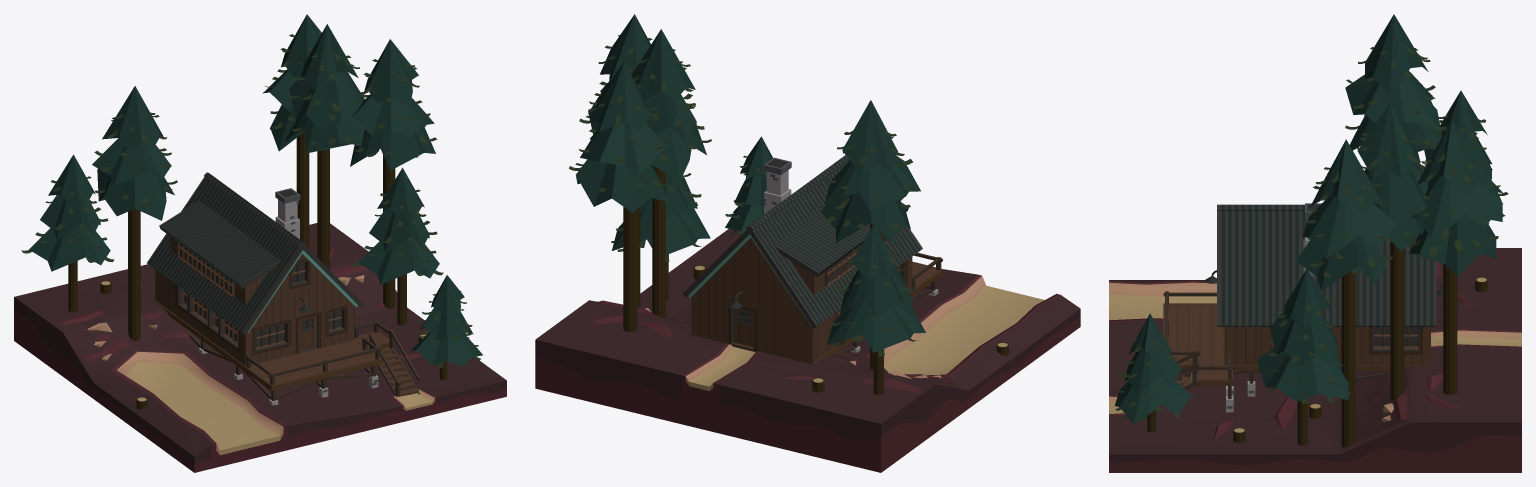
Rendered from Cabin And Environment .obj.
The picture shows the model from 3 angles, left to right: view 1: azimuth 30°, elevation 25°; view 2: azimuth 150°, elevation 25°; view 3: azimuth 270°, elevation 25°; orthographic projection. The views are drawn at different scales.
Parts seen in each view (by area): view 1: Ground, Cabin, Spruce5, Spruce, Spruce3, Spruce2, Spruce6, Spruce4, Spruce1, Door_1; view 2: Ground, Cabin, Spruce4, Spruce5, Spruce, Spruce6, Spruce2, Spruce3, Spruce1, Door_2; view 3: Ground, Cabin, Spruce3, Spruce4, Spruce, Spruce2, Spruce5, Spruce1, Spruce6, Stump4.
Boxes of the visible parts, bbox=[...] form: Ground: bbox=[14, 223, 506, 472]; Cabin: bbox=[147, 172, 421, 405]; Spruce5: bbox=[92, 86, 177, 340]; Spruce: bbox=[284, 24, 368, 269]; Spruce3: bbox=[349, 39, 437, 308]; Spruce2: bbox=[350, 168, 443, 325]; Spruce6: bbox=[21, 154, 114, 312]; Spruce4: bbox=[263, 14, 321, 248]; Spruce1: bbox=[411, 275, 482, 380]; Door_1: bbox=[299, 316, 317, 351]; Ground: bbox=[535, 228, 1080, 472]; Cabin: bbox=[683, 155, 943, 364]; Spruce4: bbox=[569, 61, 669, 331]; Spruce5: bbox=[818, 100, 920, 369]; Spruce: bbox=[631, 29, 711, 318]; Spruce6: bbox=[826, 223, 925, 394]; Spruce2: bbox=[611, 173, 710, 300]; Spruce3: bbox=[579, 14, 652, 307]; Spruce1: bbox=[725, 136, 772, 235]; Door_2: bbox=[733, 308, 753, 346]; Ground: bbox=[1109, 248, 1521, 472]; Cabin: bbox=[1163, 203, 1443, 412]; Spruce3: bbox=[1294, 139, 1397, 447]; Spruce4: bbox=[1407, 119, 1502, 394]; Spruce: bbox=[1357, 102, 1430, 400]; Spruce2: bbox=[1257, 269, 1350, 445]; Spruce5: bbox=[1345, 14, 1448, 151]; Spruce1: bbox=[1115, 313, 1199, 432]; Spruce6: bbox=[1424, 90, 1508, 223]; Stump4: bbox=[1233, 277, 1487, 442].
Size of the model in its own units: 2253 by 1816 by 2000.
2 materials, 2 textured.
